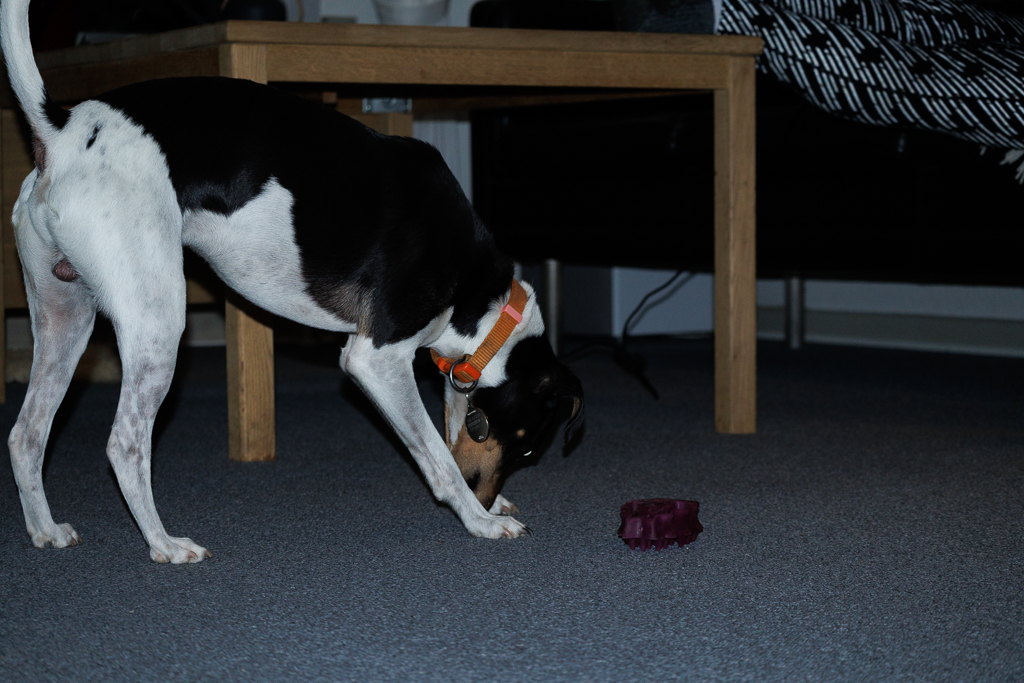Dog: (0, 0, 597, 570)
